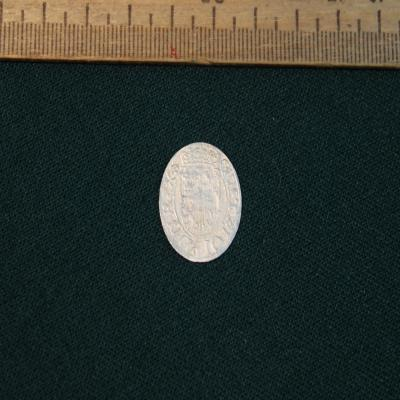numismatics: (159, 143, 241, 262)
